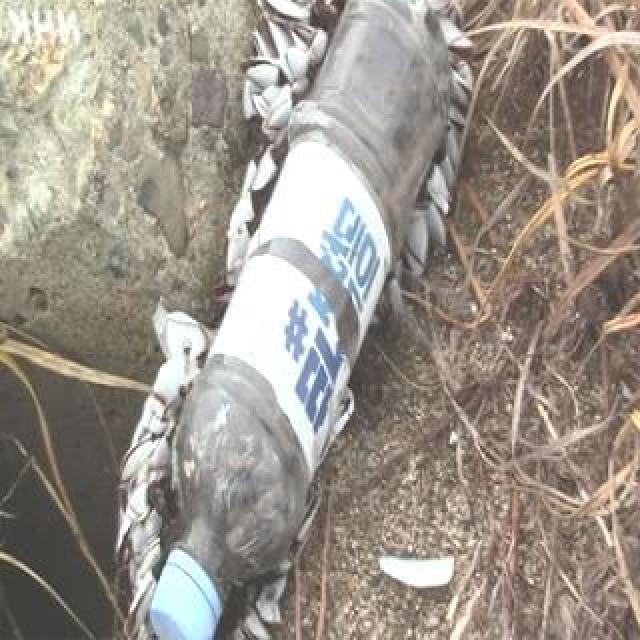Pet_Bottle: (143, 0, 455, 640)
